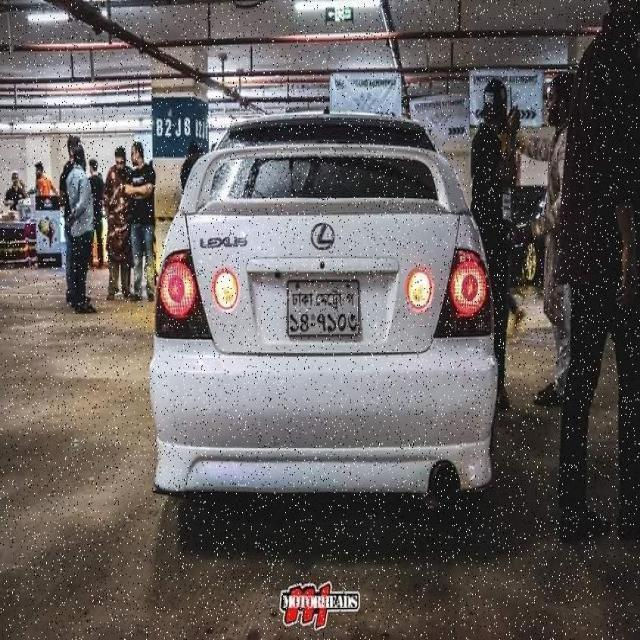numberplate: (284, 278, 362, 339)
